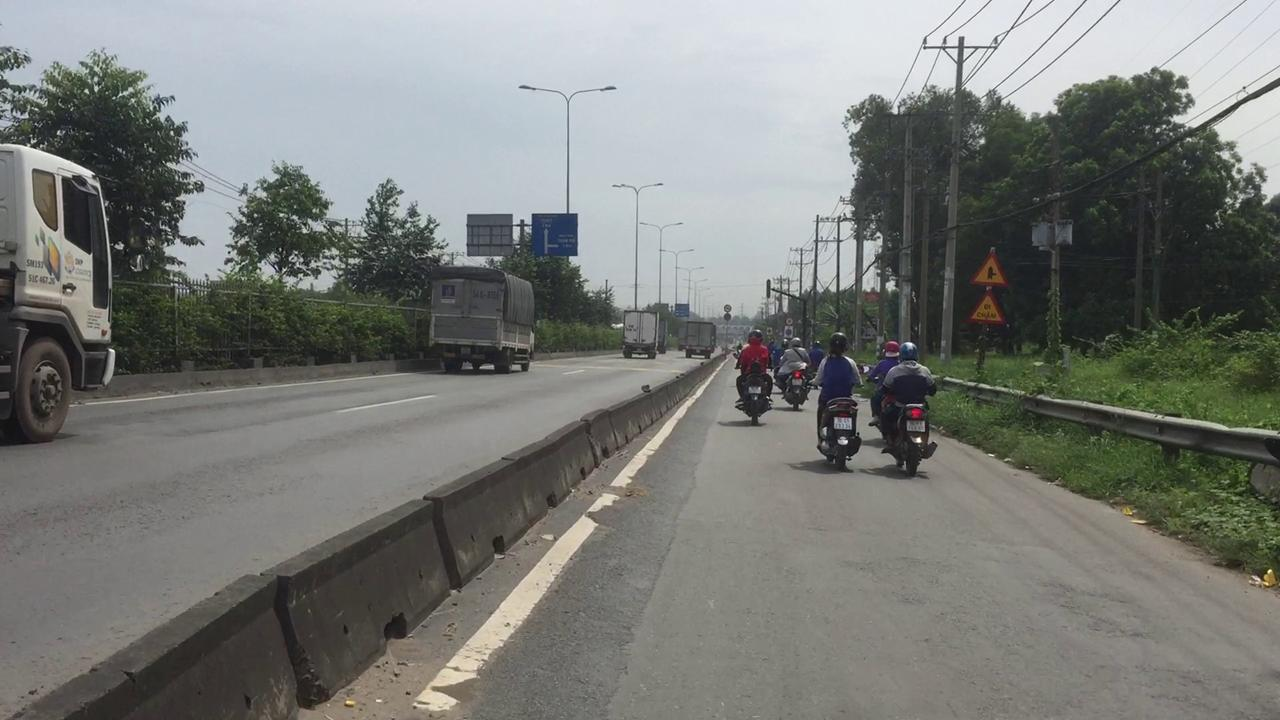P.127: (971, 251, 1010, 290)
R.301d: (968, 294, 1006, 324)
